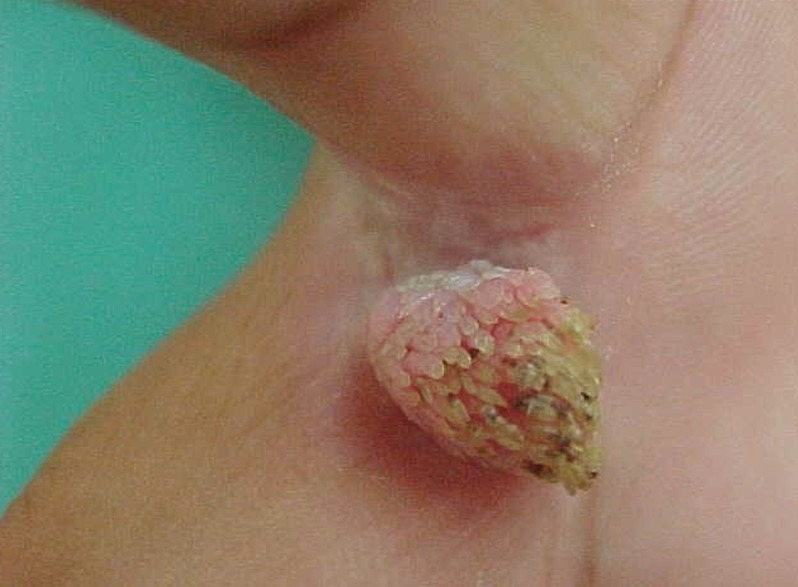Warts: (357, 242, 637, 523)
